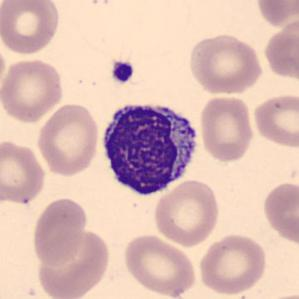Lymphocyte: (97, 96, 202, 200)
Platelets: (109, 59, 136, 85)
RBC: (33, 226, 112, 299), (186, 32, 265, 96), (35, 101, 101, 177), (120, 233, 198, 297), (151, 178, 222, 247), (196, 231, 269, 296), (0, 55, 65, 124), (30, 196, 89, 267), (198, 94, 256, 163), (0, 2, 62, 57), (0, 137, 47, 206), (251, 92, 298, 150), (260, 179, 298, 246), (261, 16, 298, 82), (254, 0, 298, 29)
